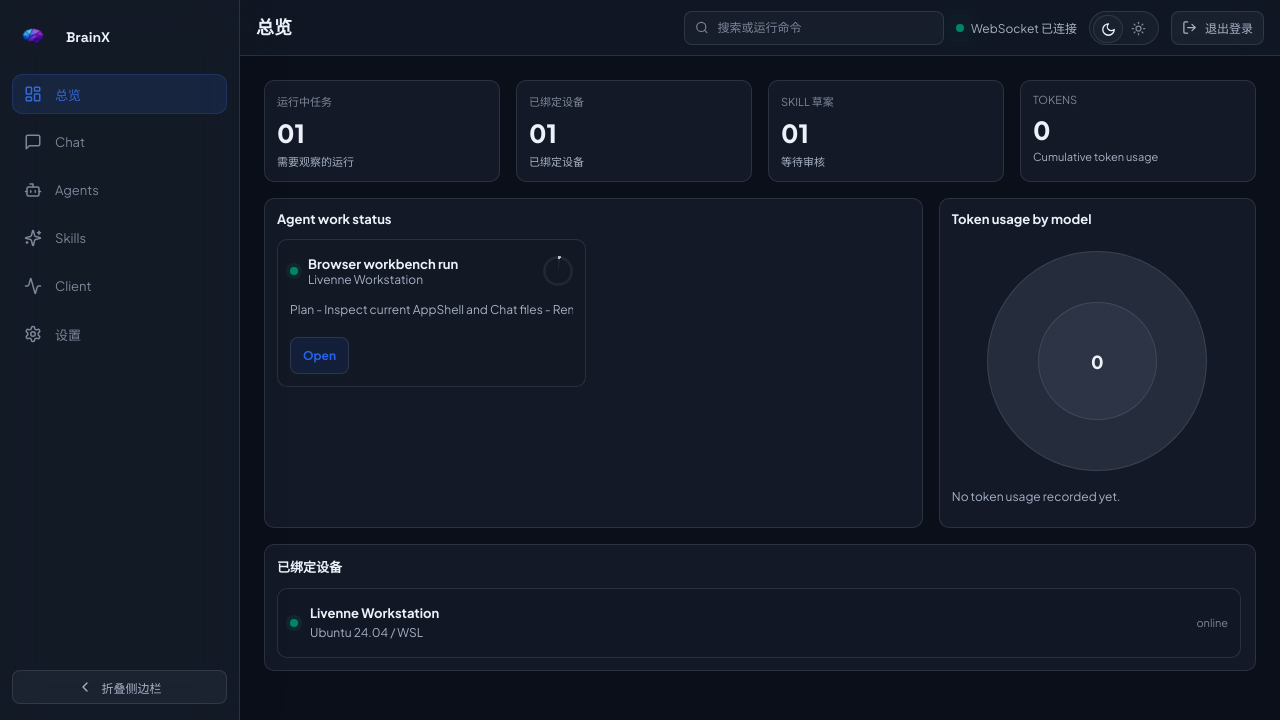
Test case: i18n support › defaults to Chinese and switches to English without changing the route
Check: the heading "总览" is shown, box [256, 18, 292, 36]
Check: the link "Client" is shown, box [24, 277, 92, 295]
Step 1. Click the link "设置" → (52, 334), box [24, 325, 81, 343]
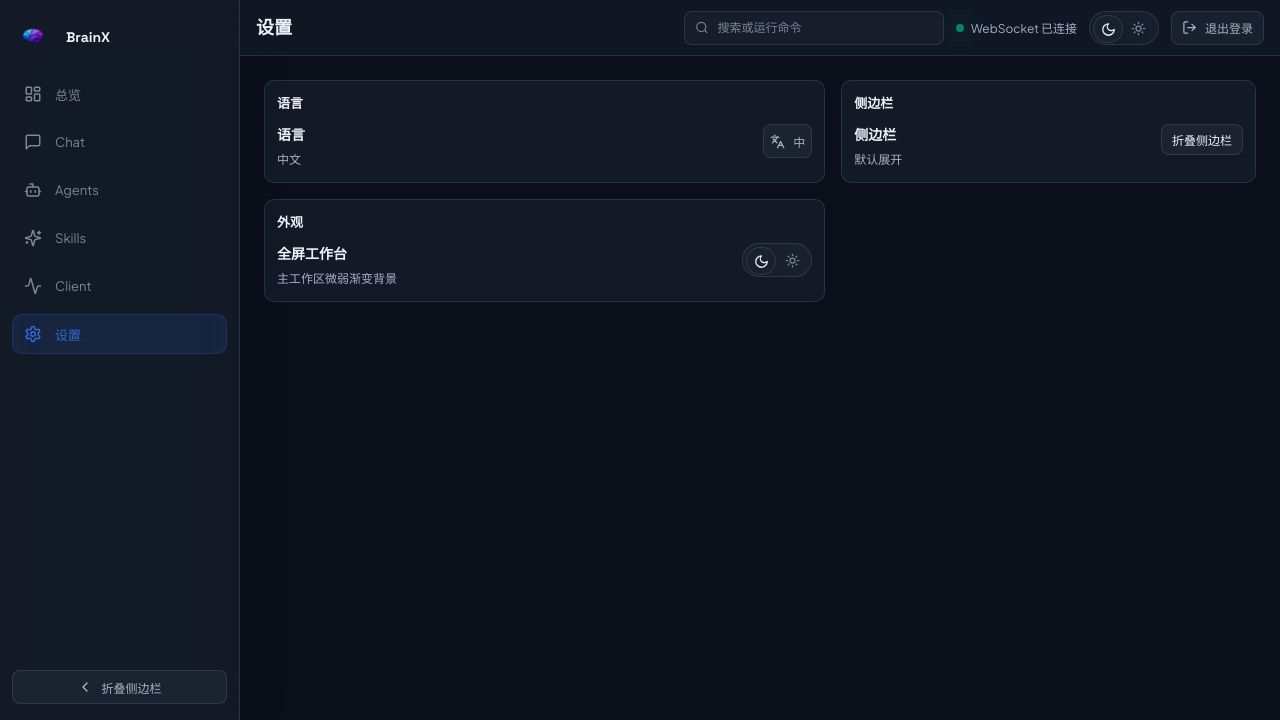
Check: the heading "设置" is shown, box [256, 18, 292, 36]
Step 2. Click the button named "switch language to english" → (788, 141), box [763, 124, 812, 158]
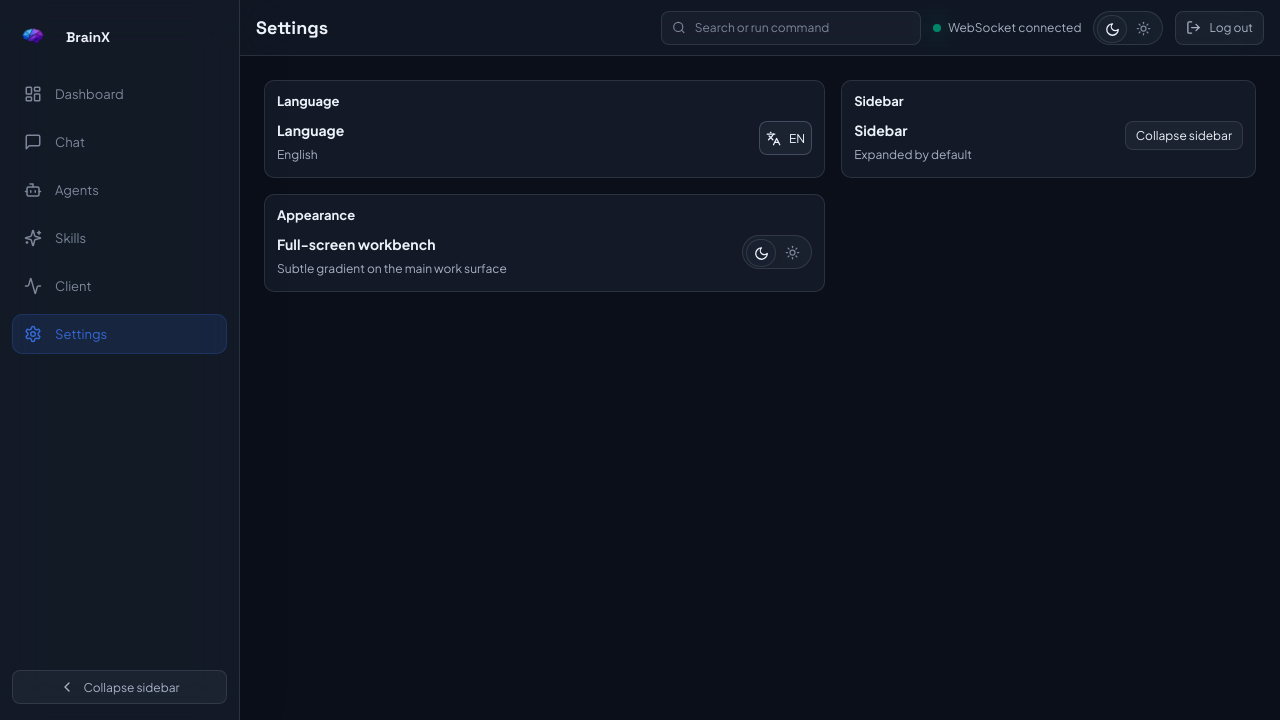
Check: the link "Client" is shown, box [24, 277, 92, 295]
Check: the heading "Settings" is shown, box [256, 18, 328, 36]
